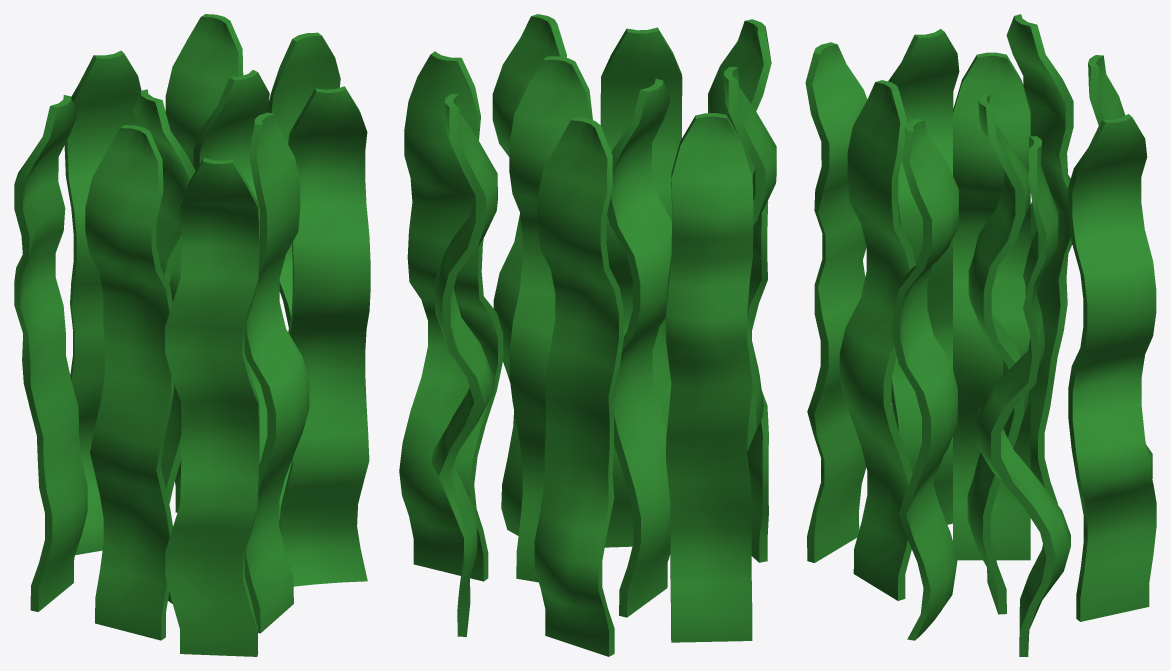
The model's file is maya2sketchfab.fbx.
The picture shows the model from 3 angles, left to right: view 1: azimuth 30°, elevation 25°; view 2: azimuth 150°, elevation 25°; view 3: azimuth 270°, elevation 25°; orthographic projection. The views are drawn at different scales.
Visible parts, largest first — view 1: pCube66; view 2: pCube66; view 3: pCube66.
Part boxes in pixels (x1,y1,x2,y2): pCube66: (14, 14, 370, 656); pCube66: (399, 14, 776, 656); pCube66: (805, 14, 1156, 656).
Bounding box in the file's own units: 4.87 × 7.07 × 4.51.
